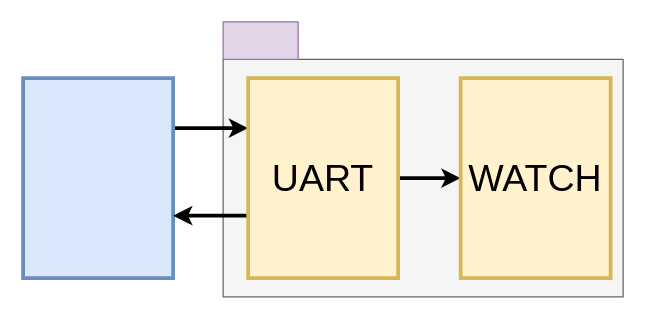
Image size: 645x319. Some labels were removed from this diagram. Here are the shapes that lost their labels. From the top down, the box of each, then its label:
(222, 21, 298, 59): fpga
(21, 76, 174, 279): pc
